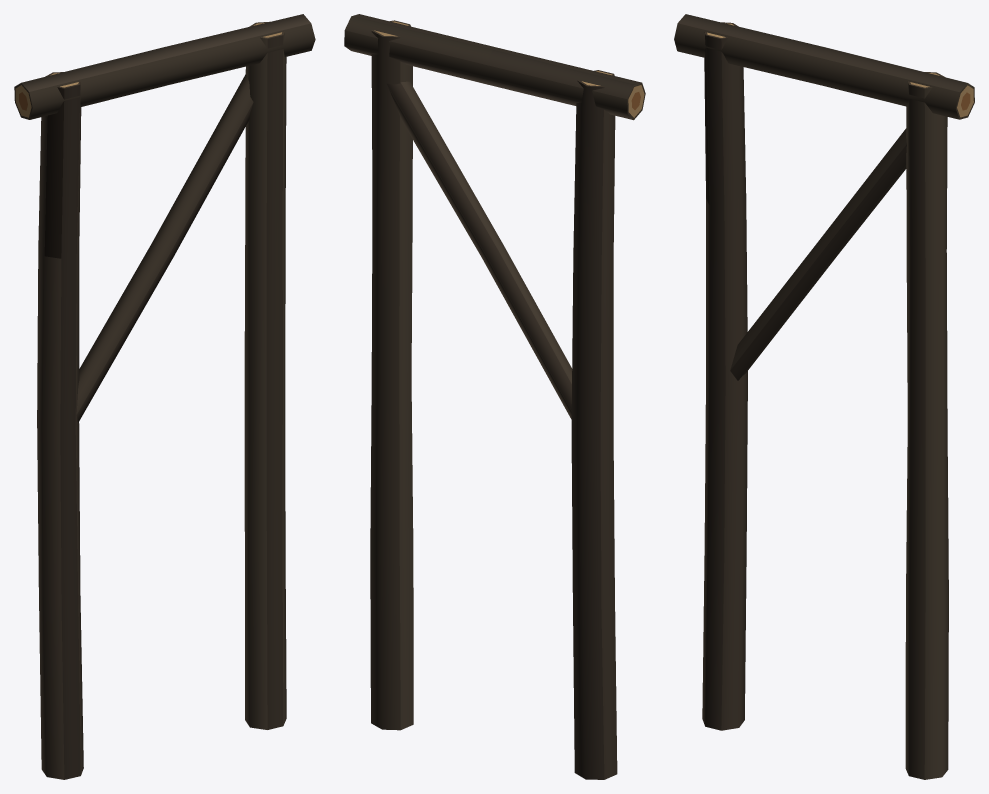
Rendered from walk_frame.glb.
3 views of the same model, side by side, from view 1: azimuth 30°, elevation 25°; view 2: azimuth 150°, elevation 25°; view 3: azimuth 330°, elevation 25° (orthographic).
Parts seen in each view (by area): view 1: log-001; view 2: log-001; view 3: log-001.
Part boxes in pixels (box(x1,y1,x2,y2)): log-001: box(14, 14, 315, 779); log-001: box(344, 14, 645, 779); log-001: box(674, 14, 974, 779).
Size of the model in its own units: 1 by 2.36 by 0.1513.
